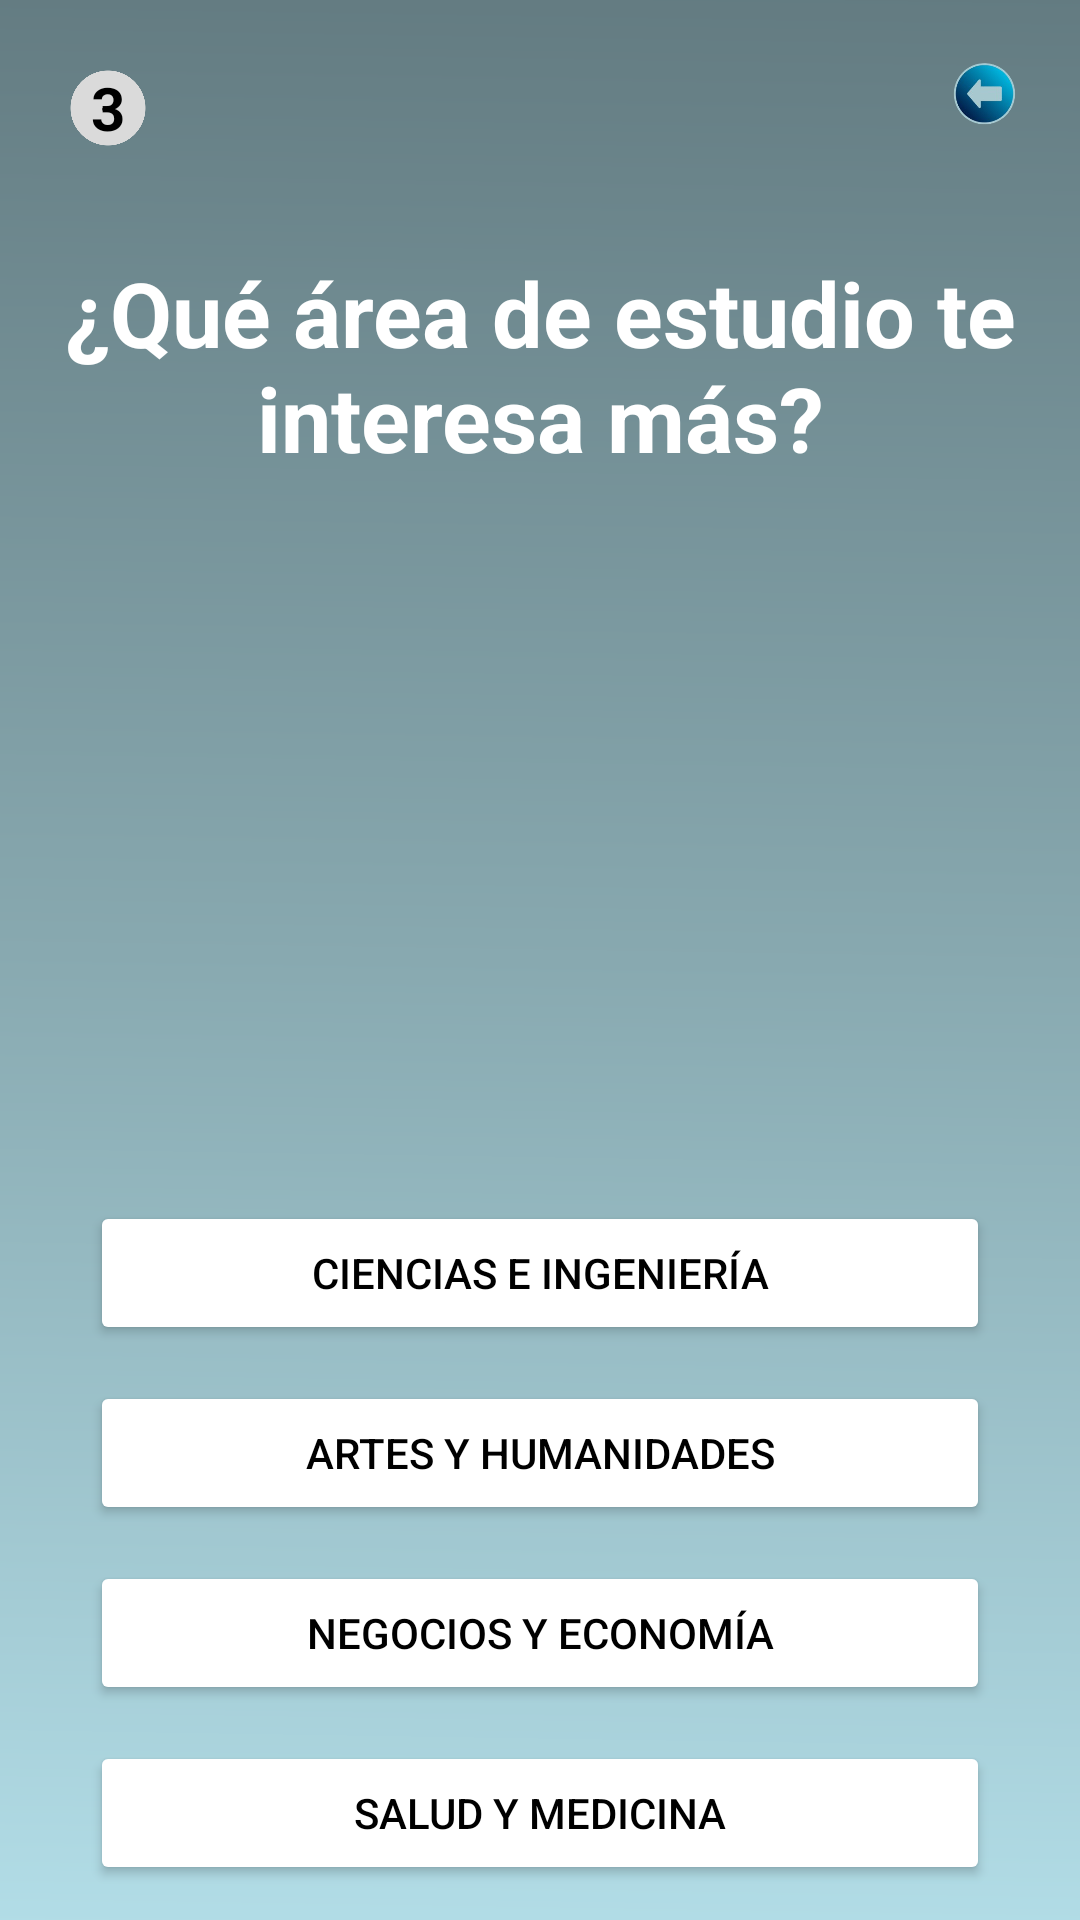

Point at icon controls on the screen. Image size 1080px×1920px, points as point (x, y).
retroceso: point (984, 93)
